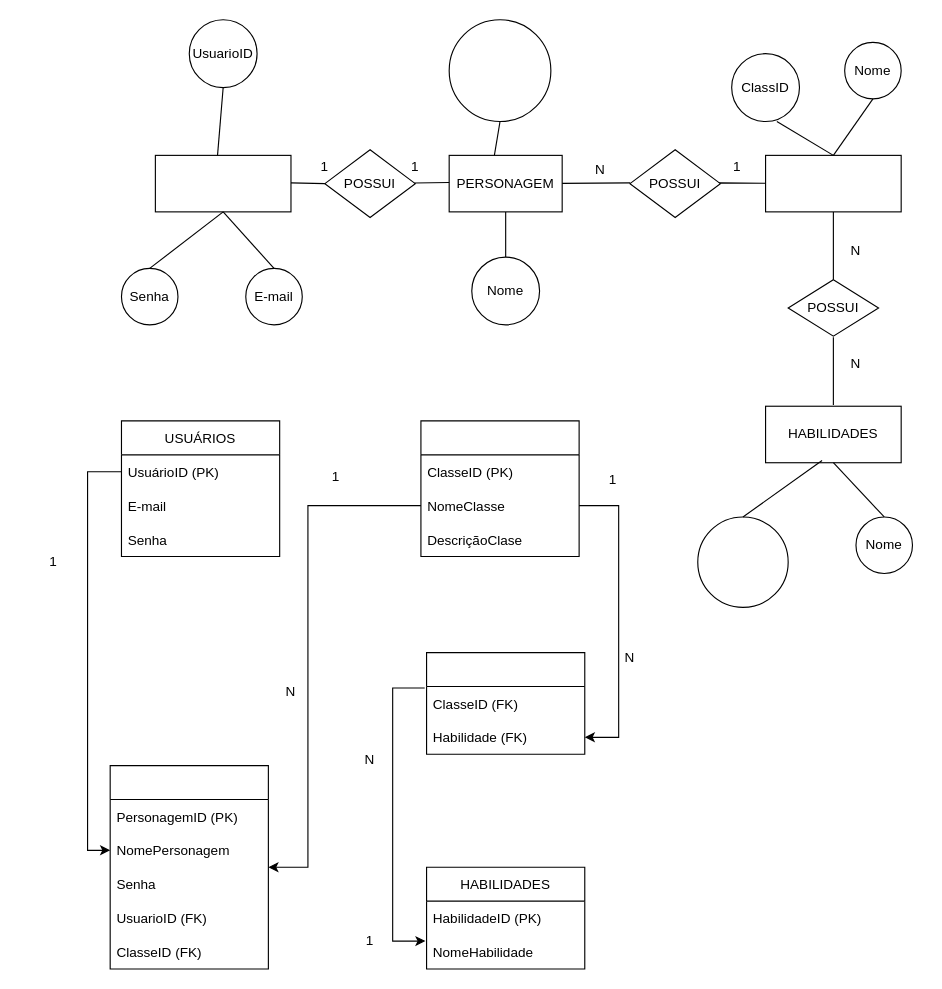
Some shapes in this 942 by 989 pixel diagram are drawn without their labels. Each missing label, with the box of its shape:
CLASSE: (764, 154, 901, 212)
CLASSES: (420, 420, 579, 557)
ClassesHabilidaes: (425, 651, 585, 754)
HabilidadeID: (697, 516, 788, 607)
PersonagemID: (448, 19, 551, 121)
PERSONAGENS: (109, 764, 268, 969)
USUÁRIO: (154, 154, 291, 212)
